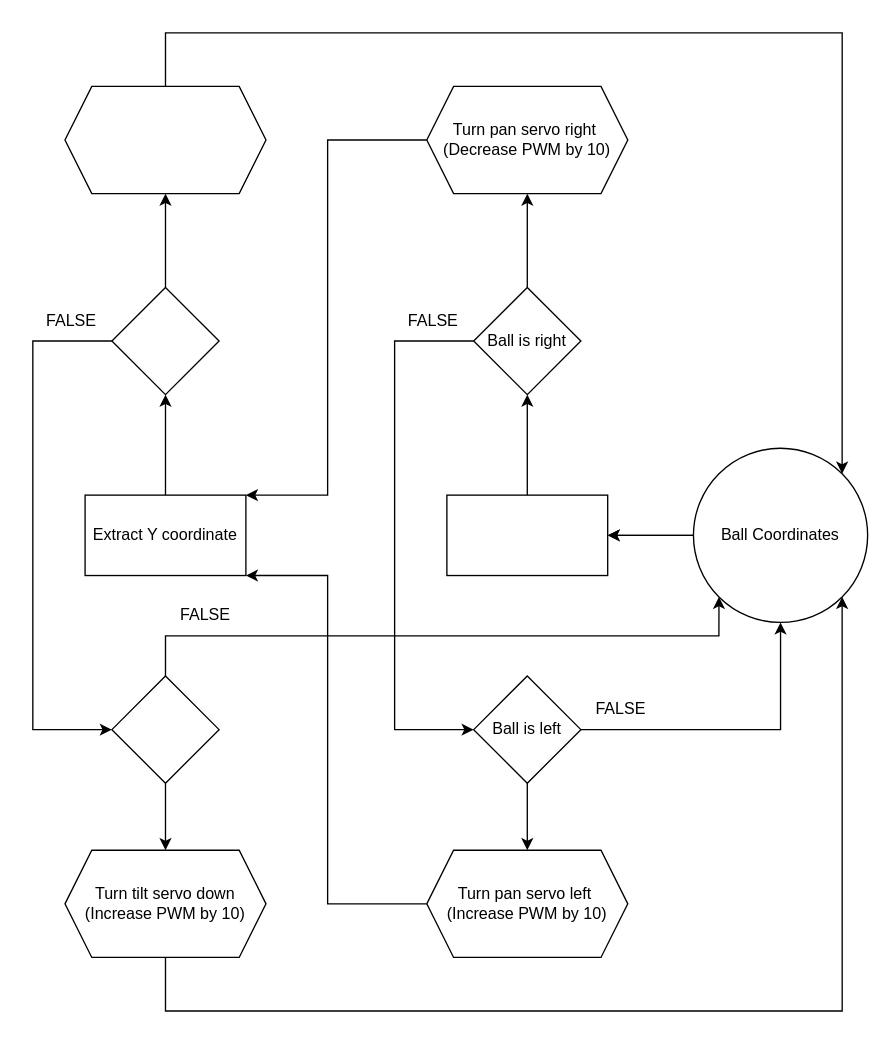
This 891x1045 diagram has some shape labels left out. Each missing label, with the box of its shape:
Ball is down: (111, 675, 219, 783)
Ball is up: (111, 286, 219, 395)
Extract X coordinate: (446, 494, 608, 576)
Turn tilt servo up (Decrease PWM by 10): (64, 85, 266, 194)
